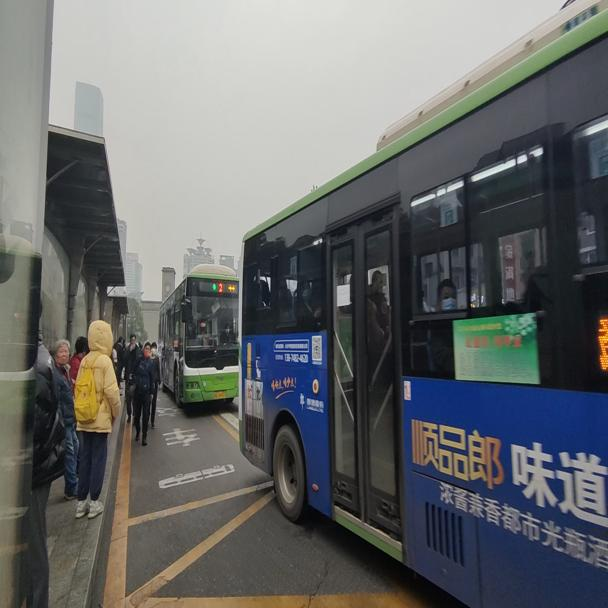bus: (243, 5, 606, 603), (158, 257, 240, 409)
screen: (216, 274, 223, 292)
